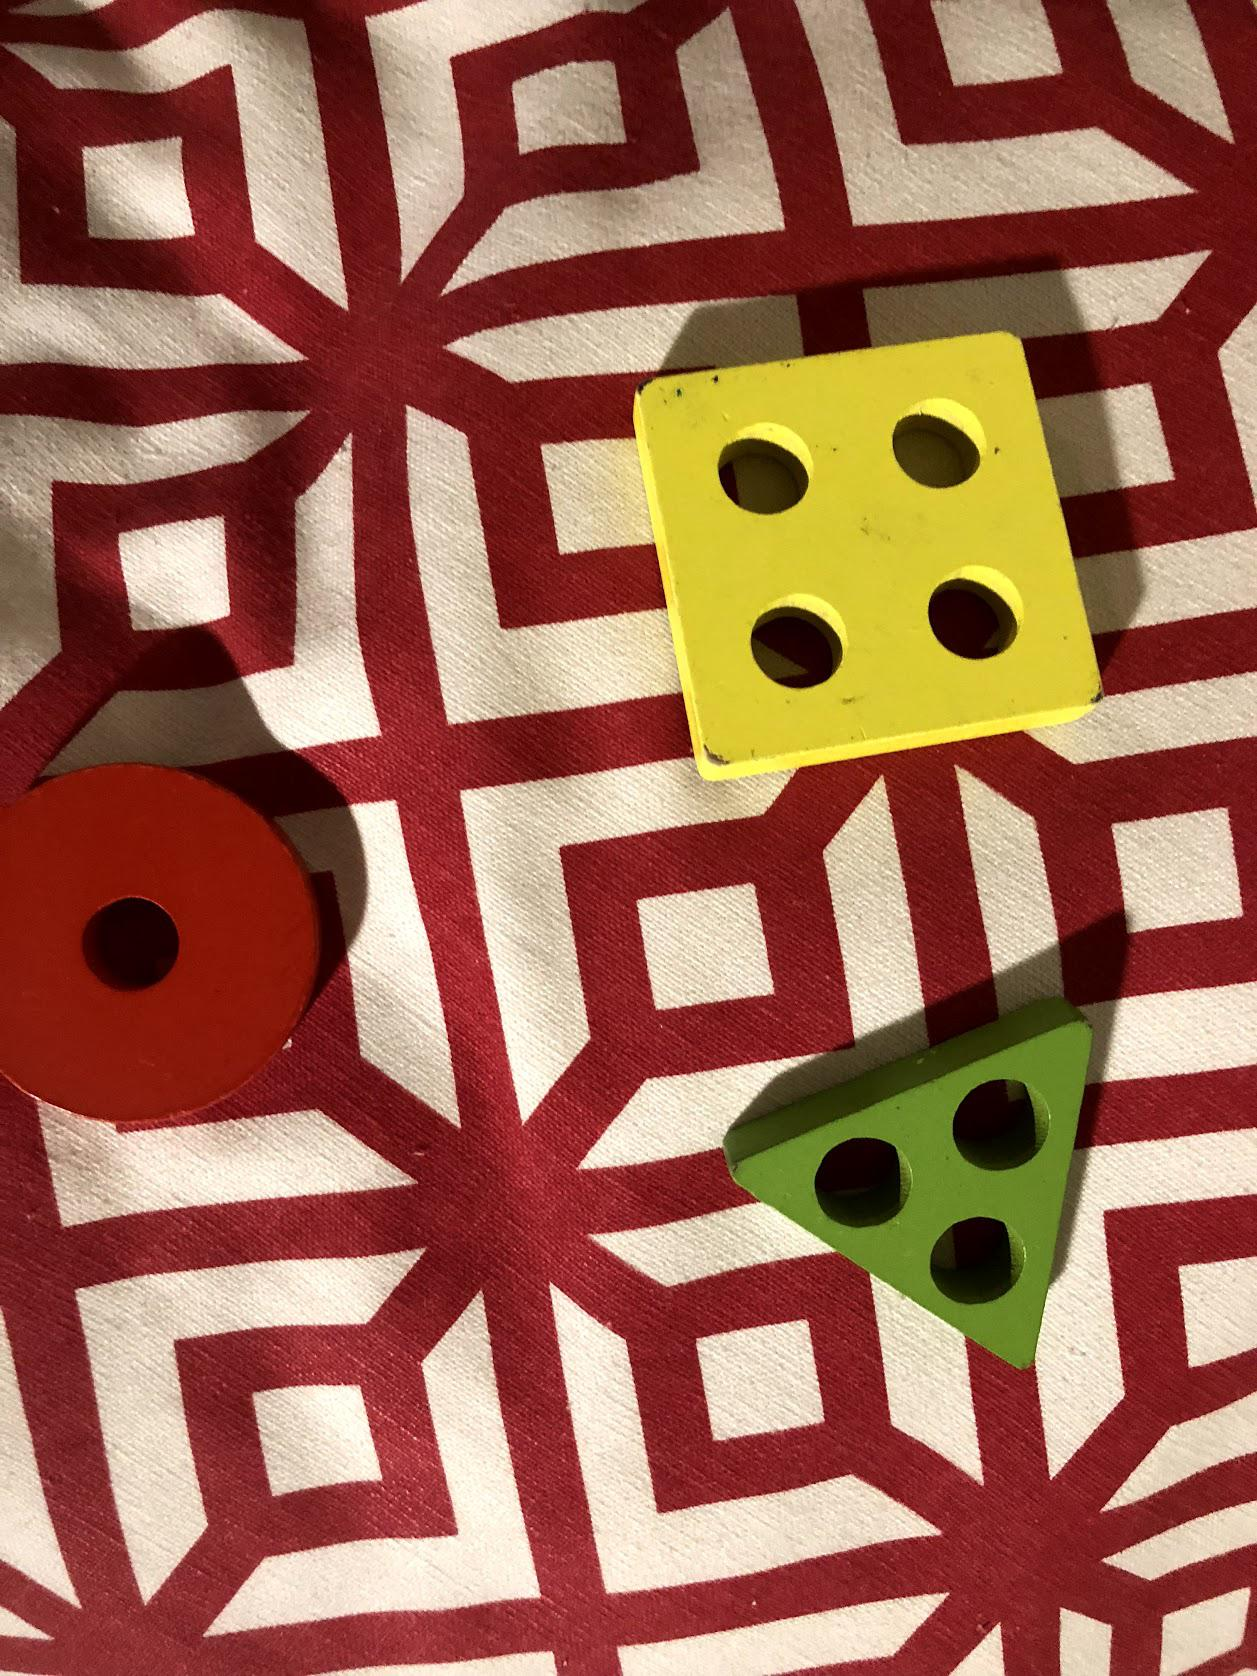Circle: (0, 757, 345, 1135)
Square: (628, 334, 1112, 787)
Triangle: (726, 1002, 1106, 1374)
